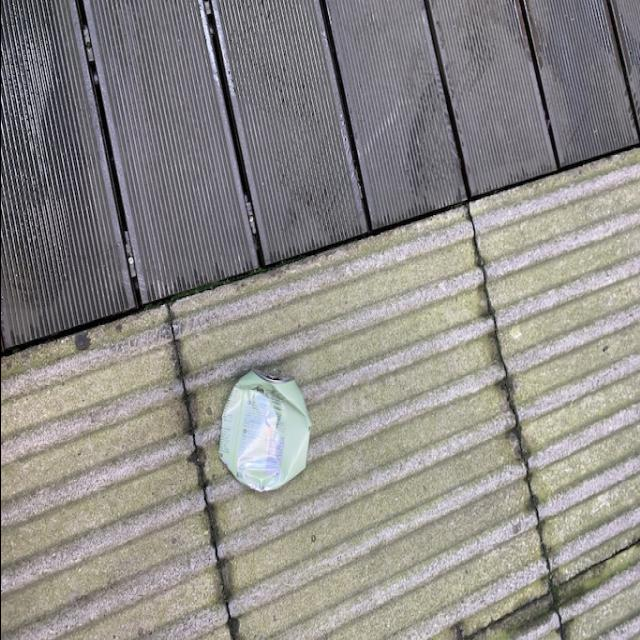Aluminum Can: (220, 370, 316, 492)
